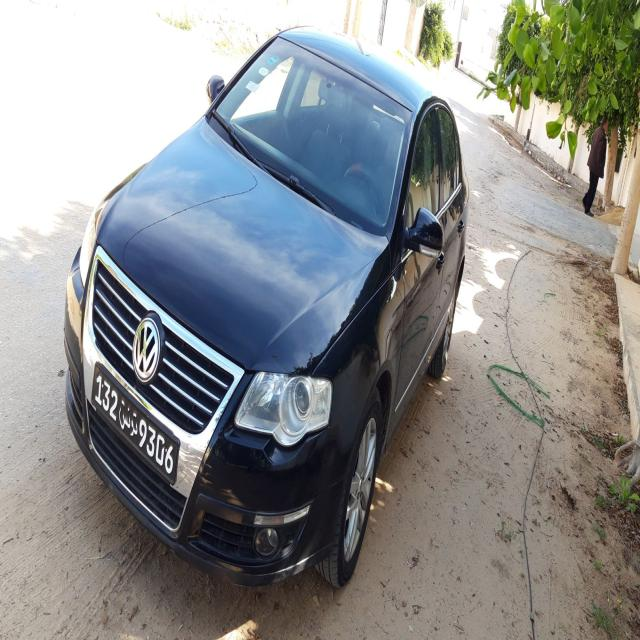LP: (90, 359, 182, 491)
